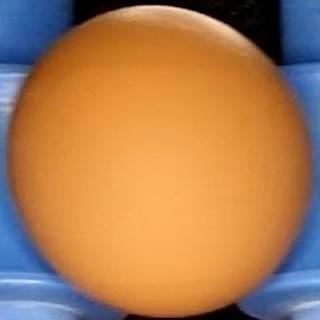Telur: (5, 1, 316, 319)
